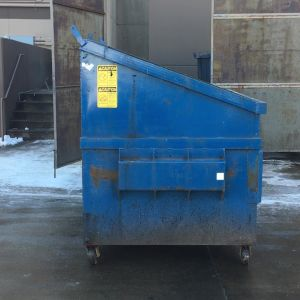Dumpster: (69, 23, 271, 269)
